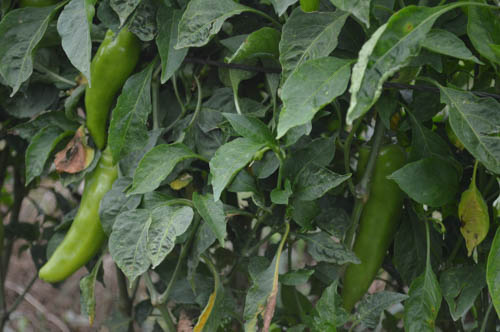ChiliPepper: (342, 144, 410, 317), (31, 154, 114, 294), (89, 28, 133, 146)
